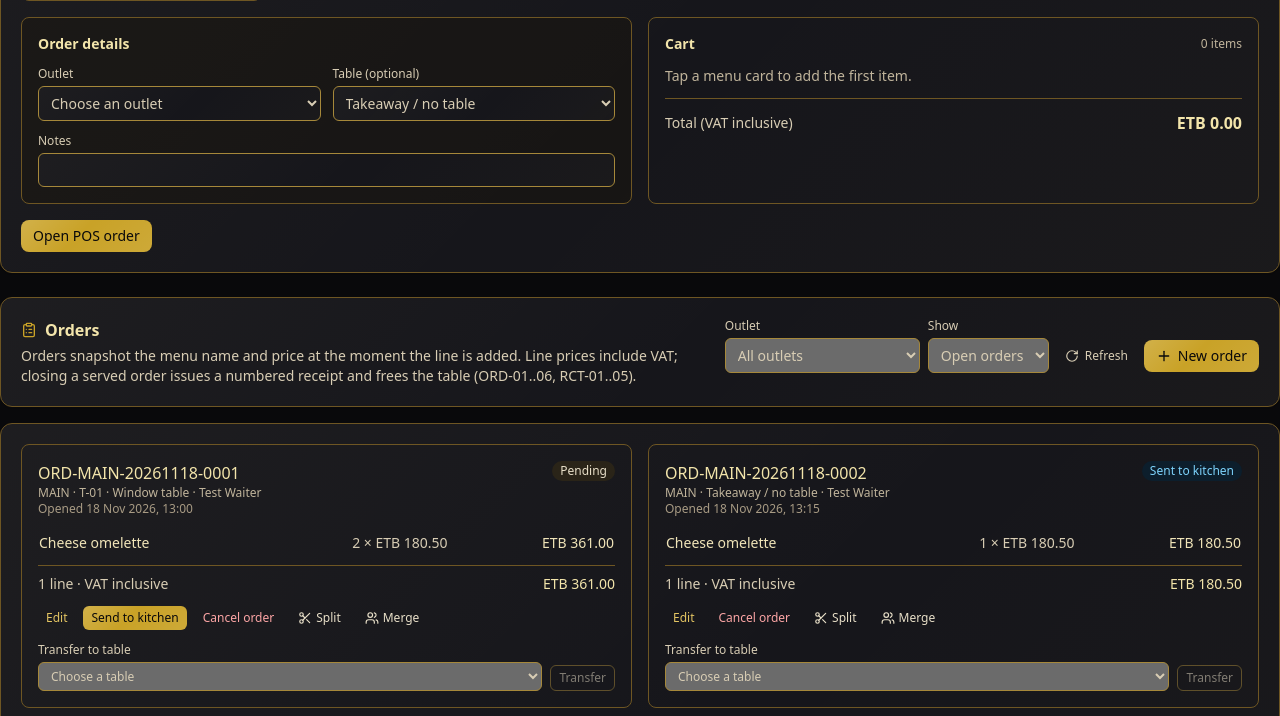
Test: Operations - menus, tables, reservations, orders and kitchen › opens an order with menu lines
(page scrolled)
Check: the text "ORD-MAIN-20261118-0001" is shown, box 38,461 -> 262,485
Click the button "New order": (1201, 356) 1144,340 -> 1259,372
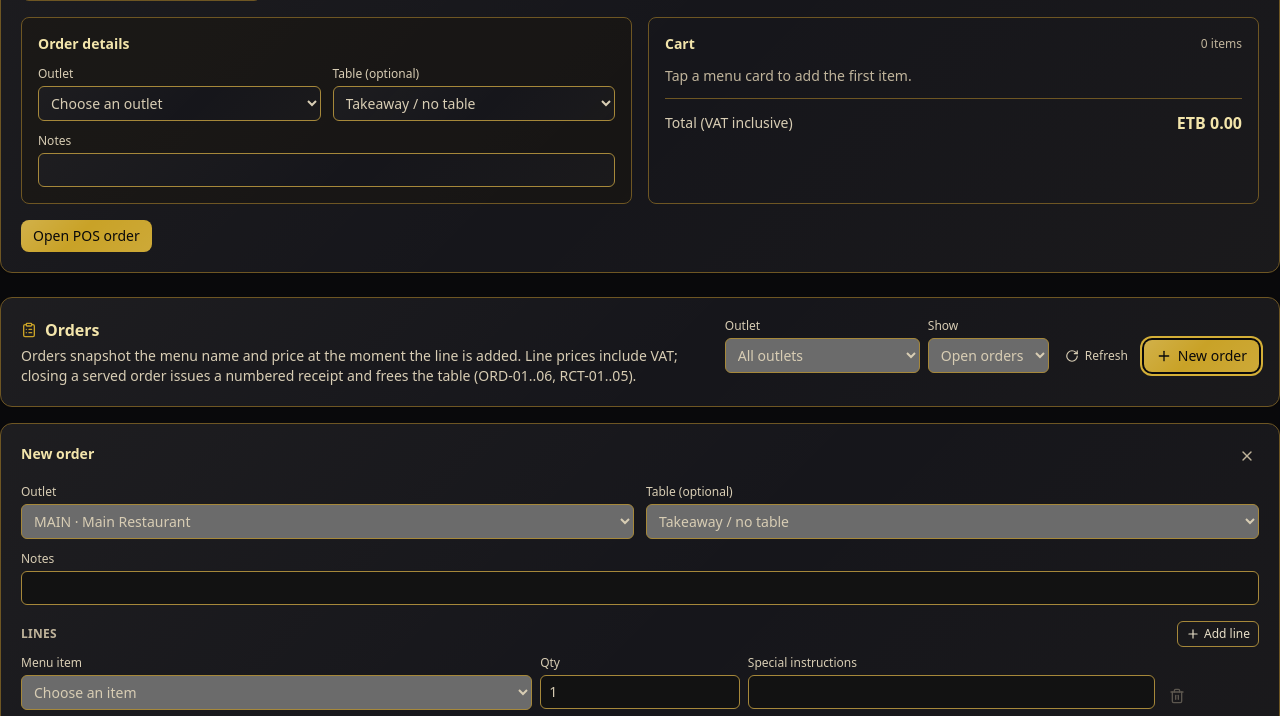
Select "OM-01 · Cheese omelette · ETB 180.50" in the dropdown named "Menu item for line 1": (277, 692) 21,675 -> 532,710
(page scrolled)
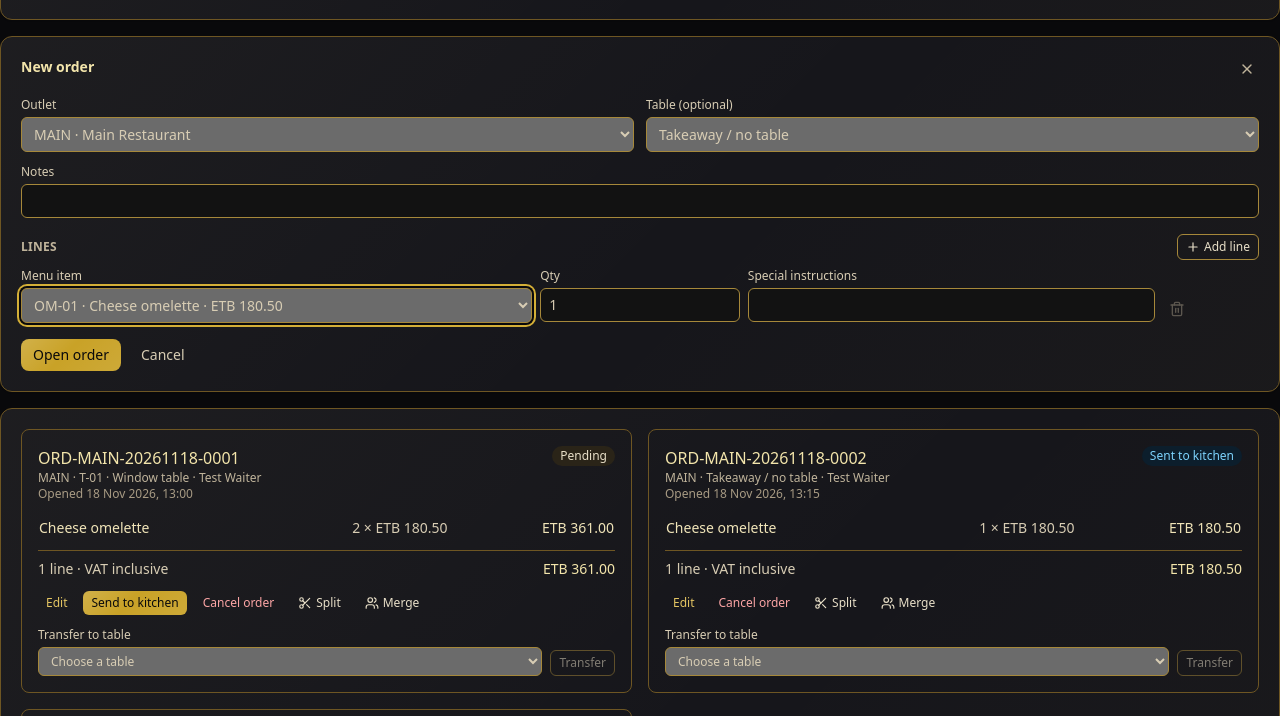
Click the button "Open order": (71, 355) 21,339 -> 121,371
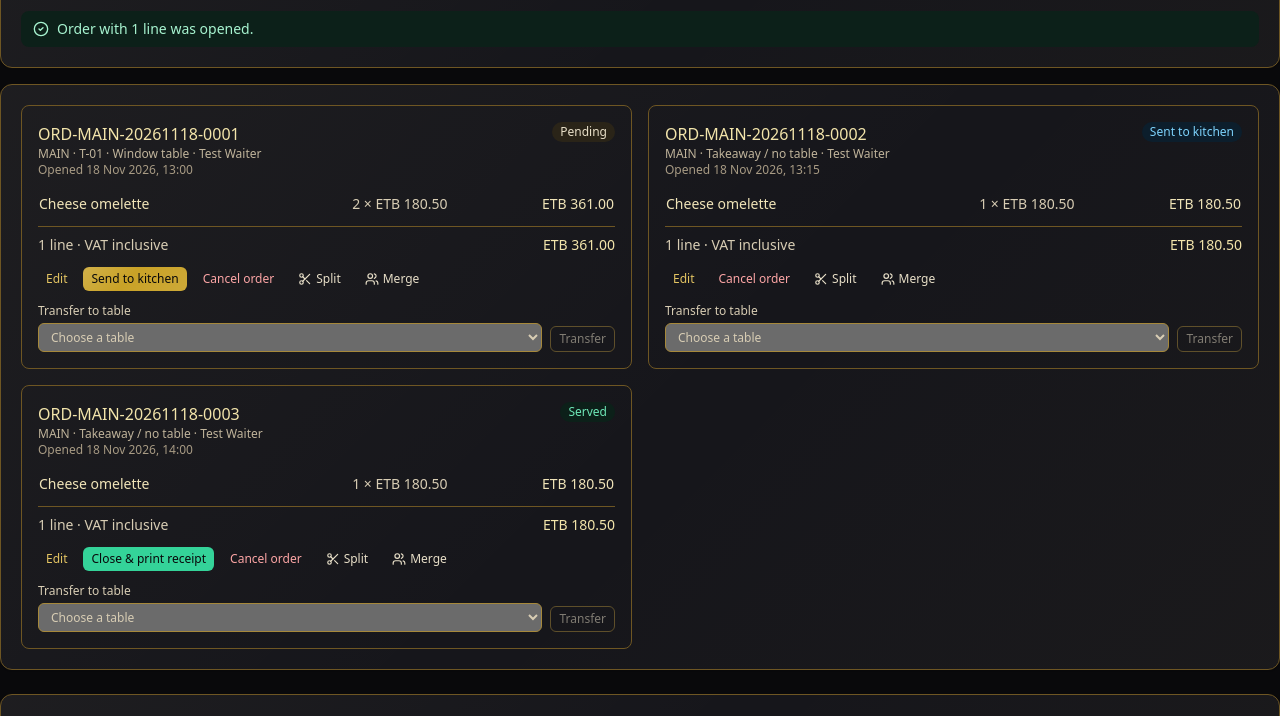
Check: the text "Order with 1 line was opened." is shown, box 21,11 -> 1259,47
